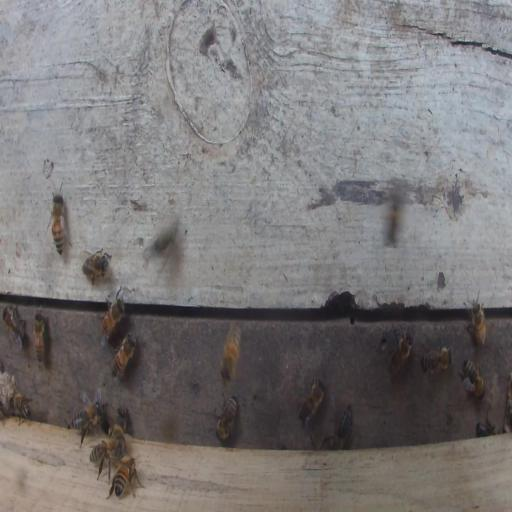bee: (100, 285, 125, 347), (108, 457, 143, 499), (90, 437, 124, 480), (71, 401, 102, 447), (220, 322, 242, 383), (298, 377, 325, 425), (464, 291, 487, 347), (388, 329, 413, 380), (111, 331, 137, 380), (82, 247, 111, 286), (420, 346, 453, 380), (459, 357, 485, 400), (2, 304, 26, 350), (216, 393, 238, 442), (334, 404, 353, 448), (33, 308, 47, 366), (10, 391, 32, 426), (51, 194, 63, 256), (109, 424, 125, 449), (475, 421, 496, 436), (117, 408, 126, 433), (109, 475, 109, 475)
